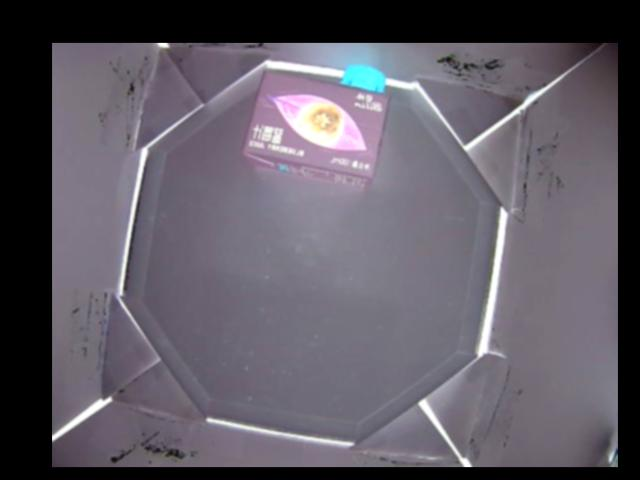Bottle: (240, 54, 392, 189)
